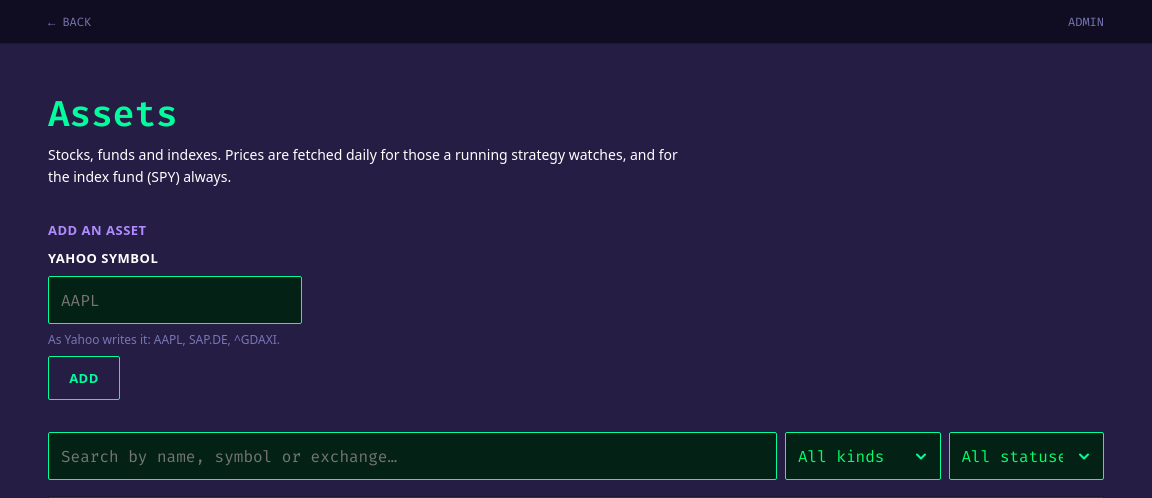
AdminAssets › says when an asset already there is hidden, and a failed reload apart from the add
Step 1. Type "SPY" into the field labelled "Yahoo symbol" → x=175, y=300, box [48, 276, 302, 324]
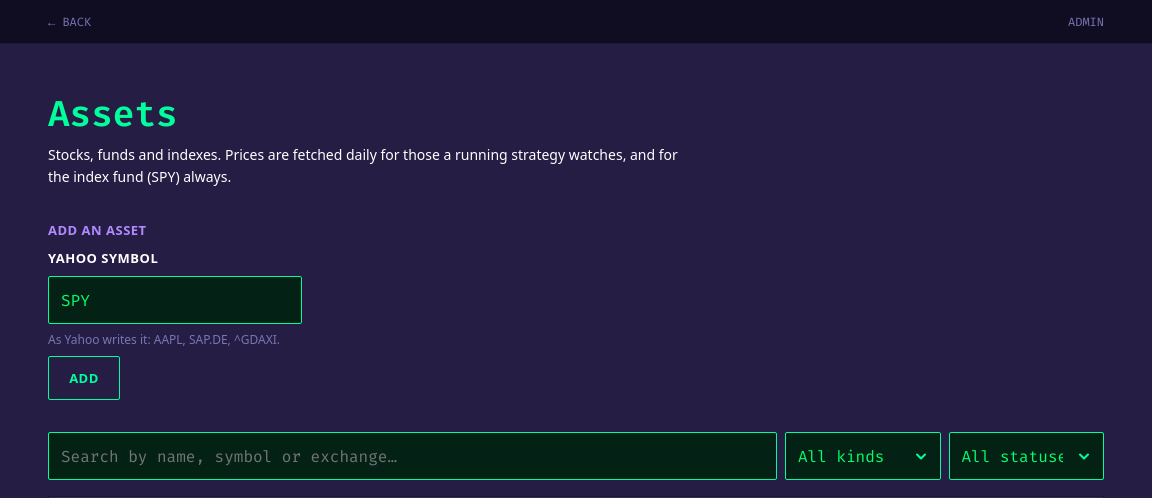
Step 2. Click the button "Add" → x=84, y=378, box [48, 356, 120, 400]
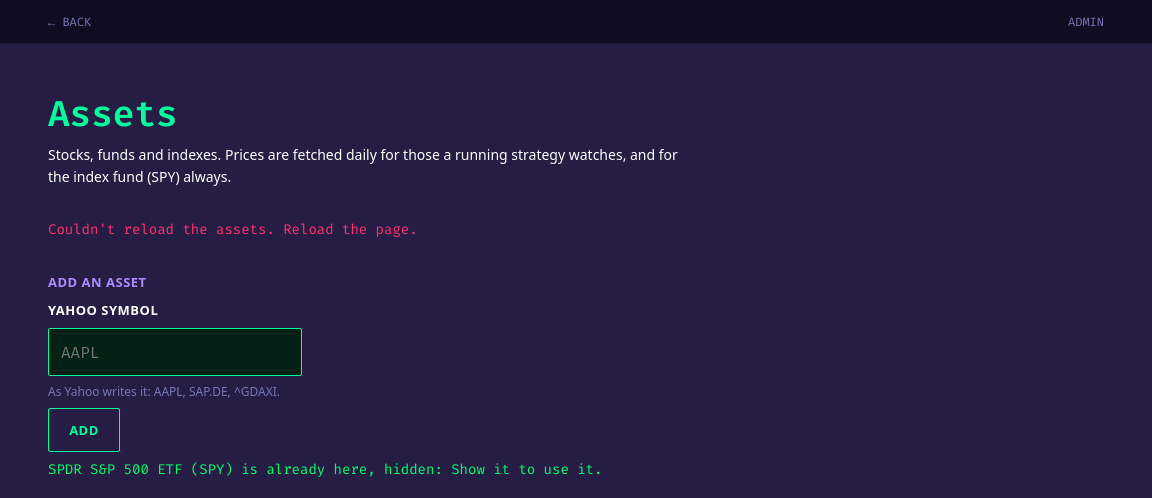
Expected: the text "SPDR S&P 500 ETF (SPY) is already here, hidden: Show it to use it." is shown, [48, 460, 602, 480]
Expected: the text "Couldn't reload the assets. Reload the page." is shown, [48, 220, 418, 239]
